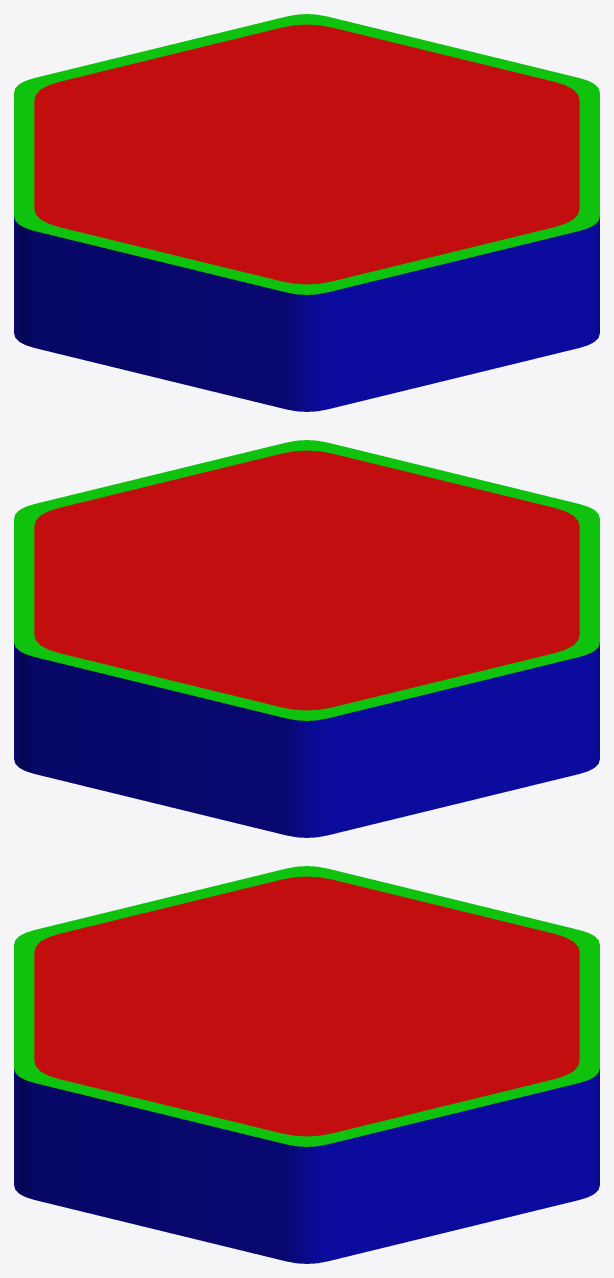
File: Hexagon.fbx
3 renders of one model, top to bottom at view 1: azimuth 30°, elevation 25°; view 2: azimuth 150°, elevation 25°; view 3: azimuth 270°, elevation 25°, orthographic.
Visible parts, largest first — view 1: Gengon001; view 2: Gengon001; view 3: Gengon001.
Boxes of the visible parts, left/top/right/bottom form: Gengon001: left=14, top=14, right=599, bottom=411; Gengon001: left=14, top=440, right=599, bottom=837; Gengon001: left=14, top=866, right=599, bottom=1263.
Bounding box in the file's own units: 98.25 × 19.08 × 86.6.
